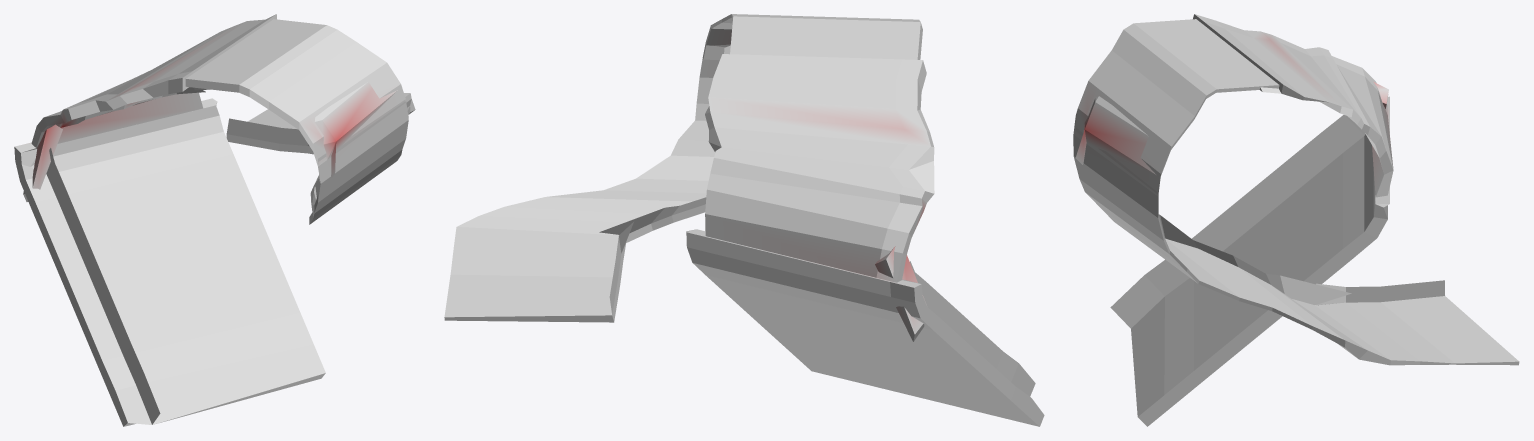
The model's file is Ramp.fbx.
3 views of the same model, side by side, from view 1: azimuth 30°, elevation 25°; view 2: azimuth 150°, elevation 25°; view 3: azimuth 270°, elevation 25° (orthographic). The views are drawn at different scales.
Parts seen in each view (by area): view 1: Cube; view 2: Cube; view 3: Cube.
Boxes of the visible parts, left/top/right/bottom form: Cube: left=14, top=14, right=415, bottom=426; Cube: left=444, top=14, right=1044, bottom=426; Cube: left=1073, top=14, right=1519, bottom=426.
Size of the model in its own units: 529 by 410 by 463.
